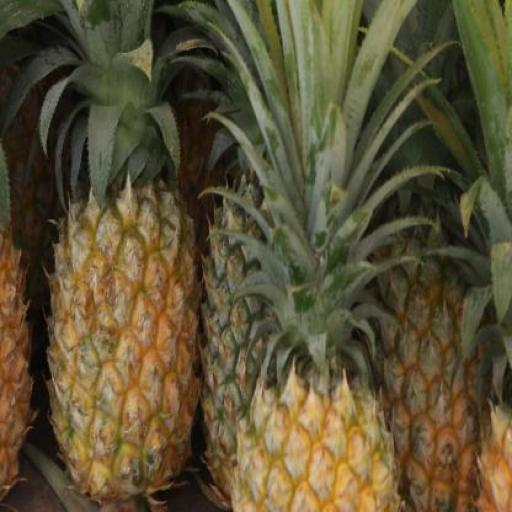------------------------------: (48, 183, 192, 488)
Pineapple - v8 v1: (236, 366, 399, 510)
